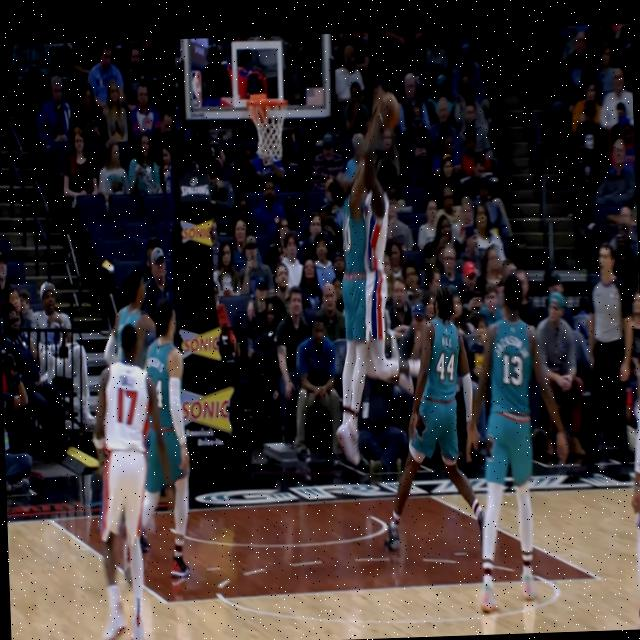foul: (314, 70, 416, 458)
no foul: (372, 279, 478, 592), (91, 318, 157, 640), (132, 296, 196, 578)
